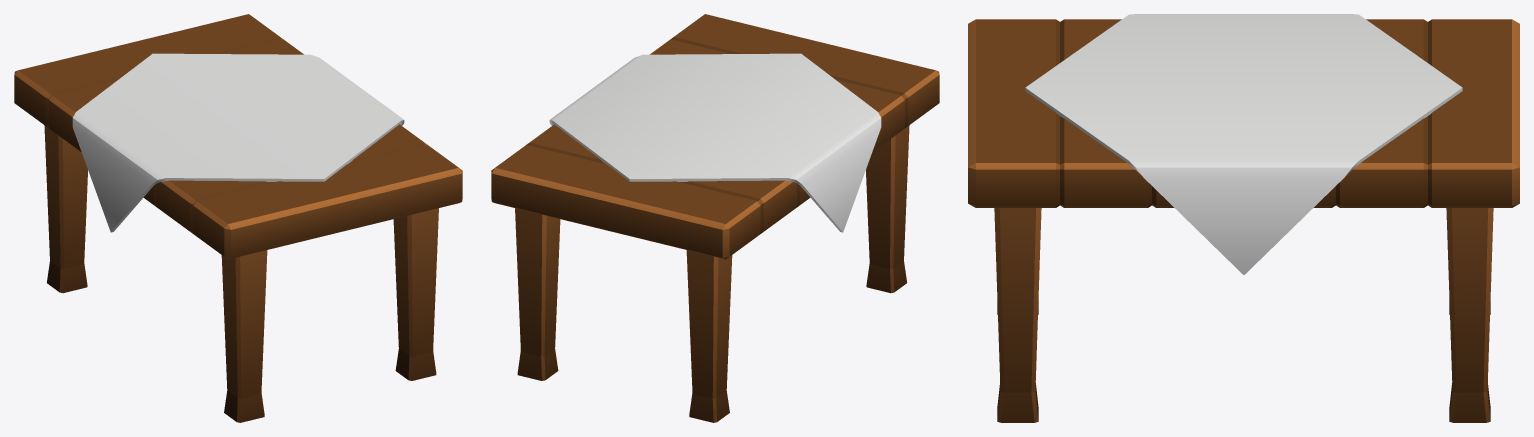
Rendered from Table-1-3.fbx.
3 views of the same model, side by side, from view 1: azimuth 30°, elevation 25°; view 2: azimuth 150°, elevation 25°; view 3: azimuth 270°, elevation 25° (orthographic). The views are drawn at different scales.
Parts seen in each view (by area): view 1: Table-1-3; view 2: Table-1-3; view 3: Table-1-3.
Part boxes in pixels (<box>): Table-1-3: <box>14,14,462,422</box>; Table-1-3: <box>491,14,939,422</box>; Table-1-3: <box>968,14,1519,422</box>.
Size of the model in its own units: 159 by 126 by 233.
